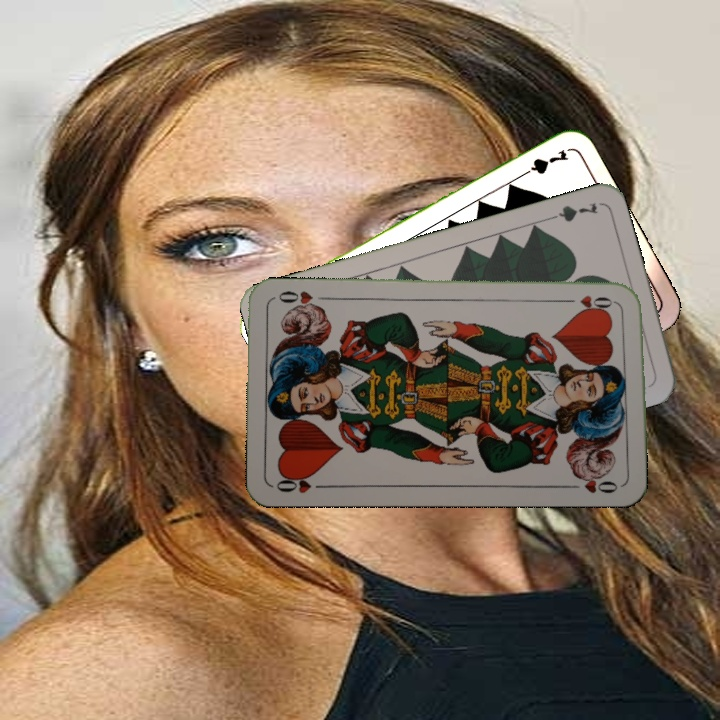G7: (514, 145, 571, 181), (542, 198, 601, 225)
HO: (272, 471, 330, 496), (561, 291, 620, 312)
